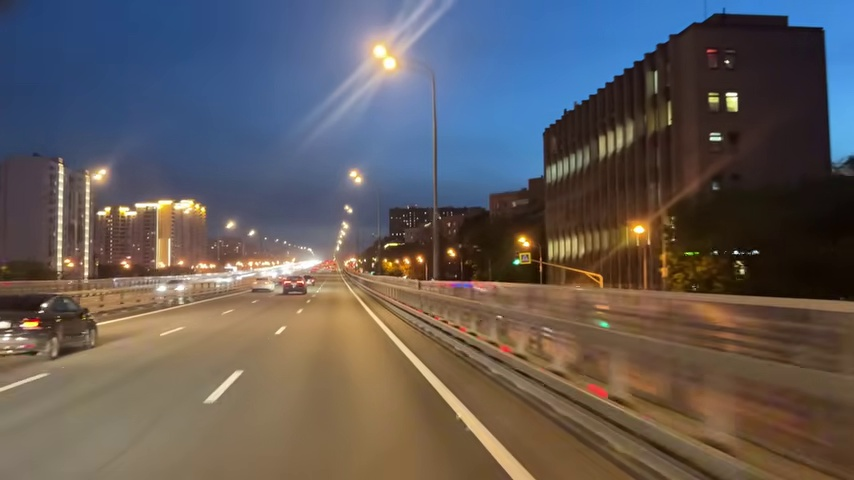acesa: (370, 41, 400, 73), (629, 221, 649, 241), (88, 167, 109, 186), (347, 168, 365, 186), (223, 218, 237, 232)
